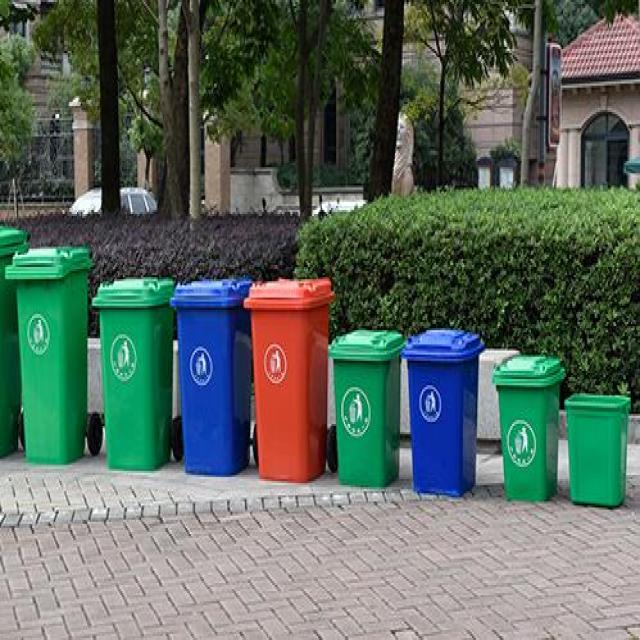garbage_bin: (2, 242, 92, 462), (241, 275, 334, 483), (167, 275, 250, 473), (90, 277, 173, 469), (399, 326, 482, 495), (326, 328, 405, 487), (490, 350, 564, 498), (563, 392, 629, 506)
